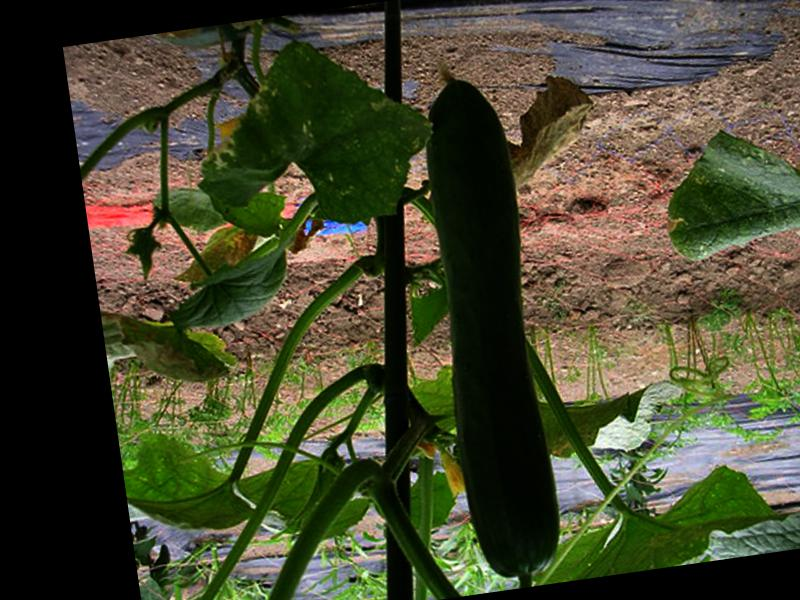Cucumber: (404, 61, 568, 582)
